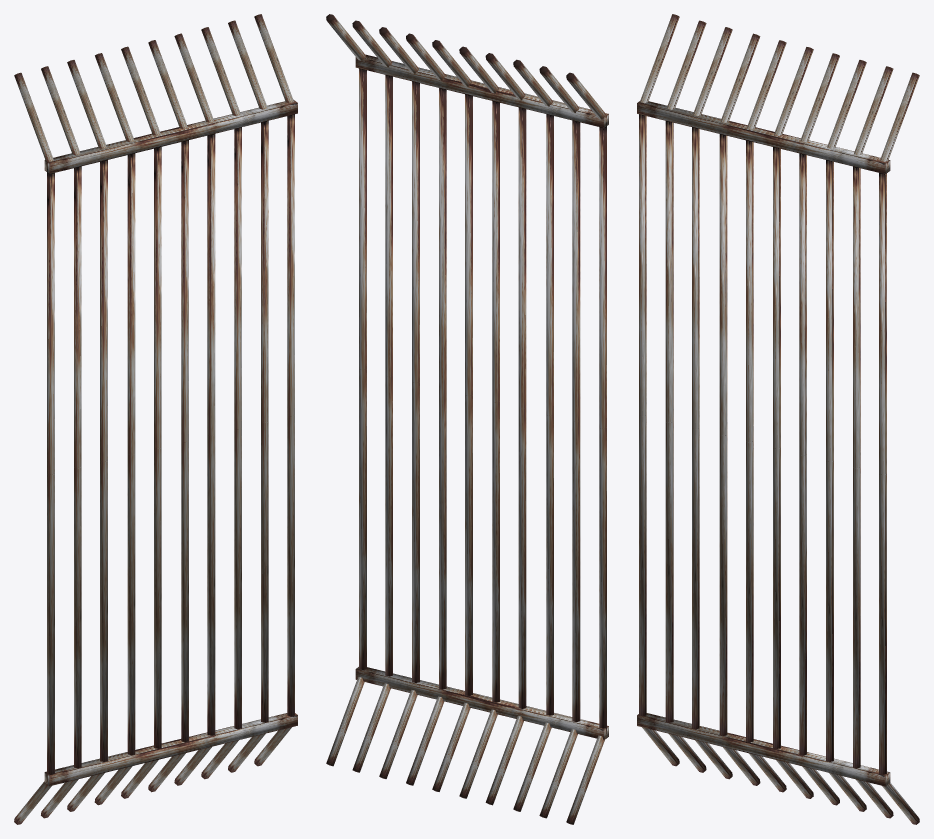
File: windowbars.fbx
3 renders of one model, left to right at view 1: azimuth 30°, elevation 25°; view 2: azimuth 150°, elevation 25°; view 3: azimuth 330°, elevation 25°, orthographic.
Visible parts, largest first — view 1: windowsbars0; view 2: windowsbars0; view 3: windowsbars0.
Part boxes in pixels (x1,y1,x2,y2): windowsbars0: (14, 14, 297, 824); windowsbars0: (326, 14, 608, 824); windowsbars0: (637, 14, 919, 824).
Size of the model in its own units: 1.65 by 4.76 by 0.4213.
